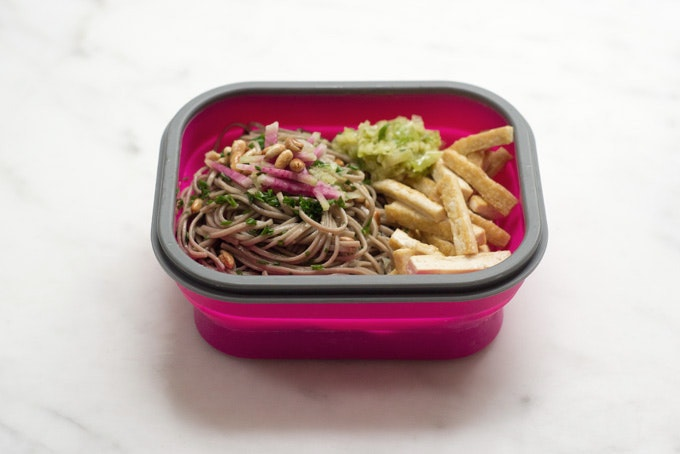Soba: (188, 130, 394, 290)
